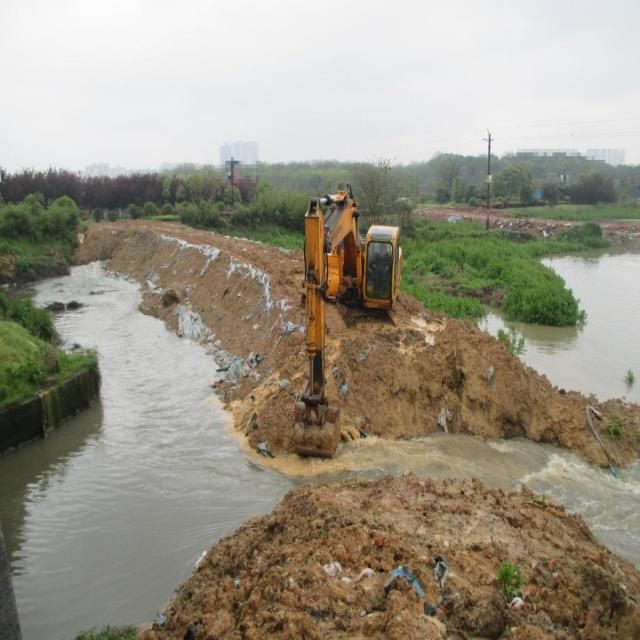excavator: (288, 177, 418, 467)
